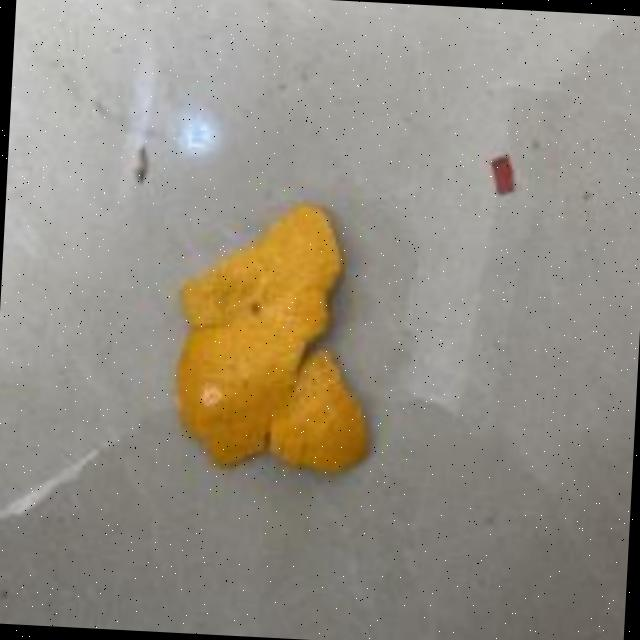orange-peel: (168, 193, 384, 477)
